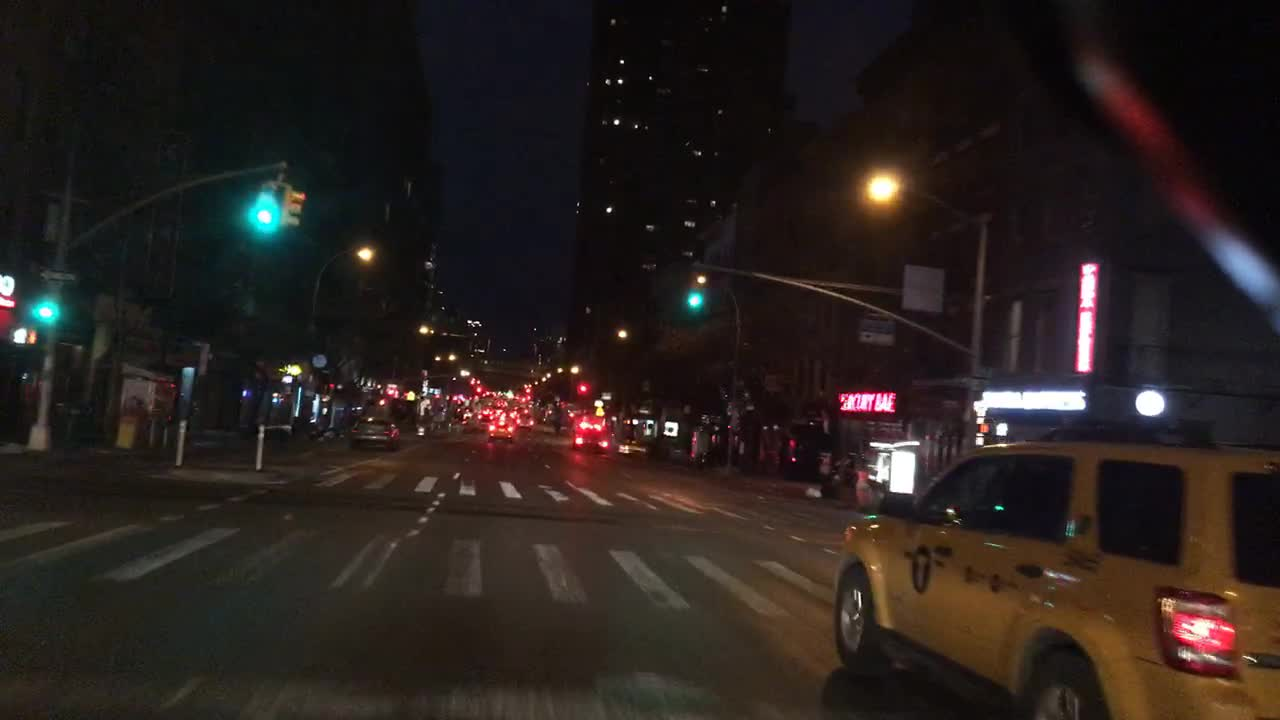car: (831, 426, 1277, 718), (350, 416, 401, 450), (571, 420, 608, 453), (486, 416, 516, 441), (460, 411, 484, 431), (516, 406, 534, 431), (561, 409, 585, 426), (544, 405, 561, 424), (501, 409, 515, 421), (481, 408, 491, 416)
traffic light: (254, 179, 277, 232), (283, 185, 306, 227), (686, 274, 706, 314), (36, 298, 62, 321), (8, 326, 28, 344), (576, 380, 591, 395), (29, 327, 36, 345)
traffic sign: (900, 263, 947, 315), (855, 318, 898, 346), (37, 267, 77, 286)
